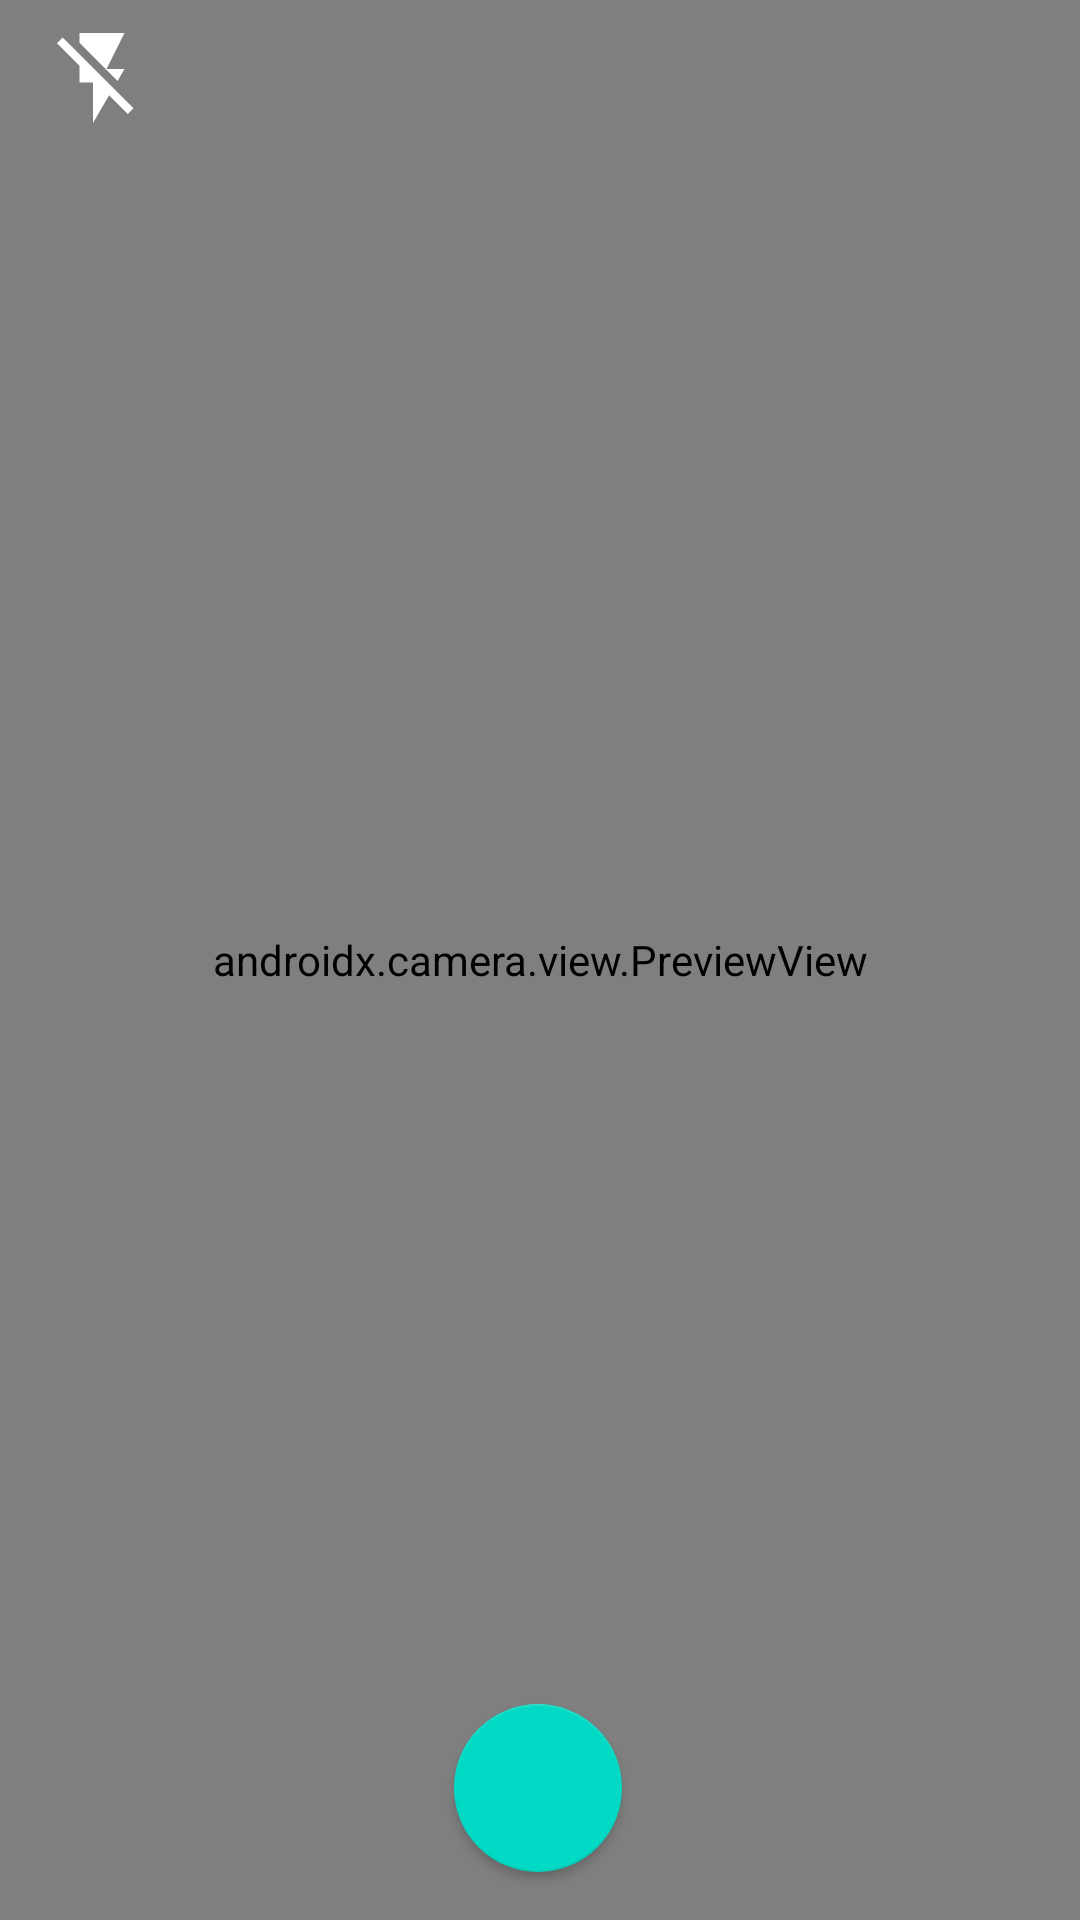

Icon click points for this 1080px x 1920px phone screenshot, format [x,y]:
flash off: [95,78]
